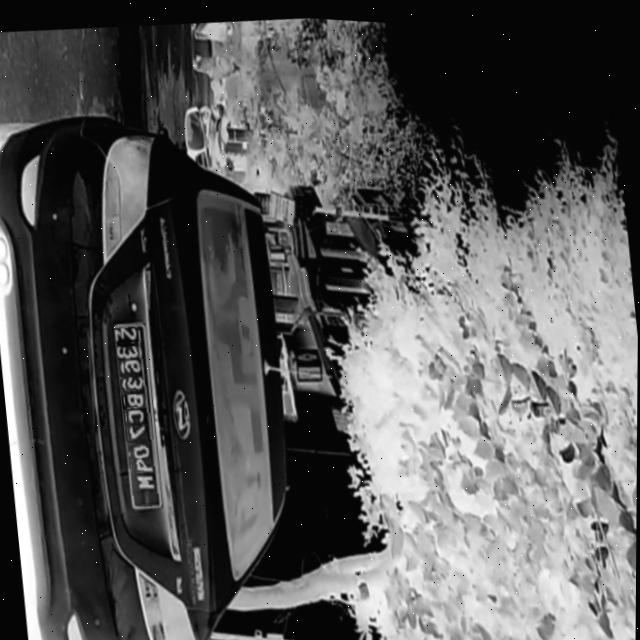0: (131, 440, 150, 457)
2: (119, 325, 138, 341)
3: (124, 373, 143, 390), (122, 342, 138, 358)
6: (122, 355, 142, 375)
7: (126, 422, 150, 441)
B: (124, 390, 145, 407)
C: (126, 406, 147, 423)
IND: (136, 485, 158, 504)
Indian_registered: (114, 322, 161, 506)
M: (133, 469, 155, 488)
P: (129, 454, 153, 472)
